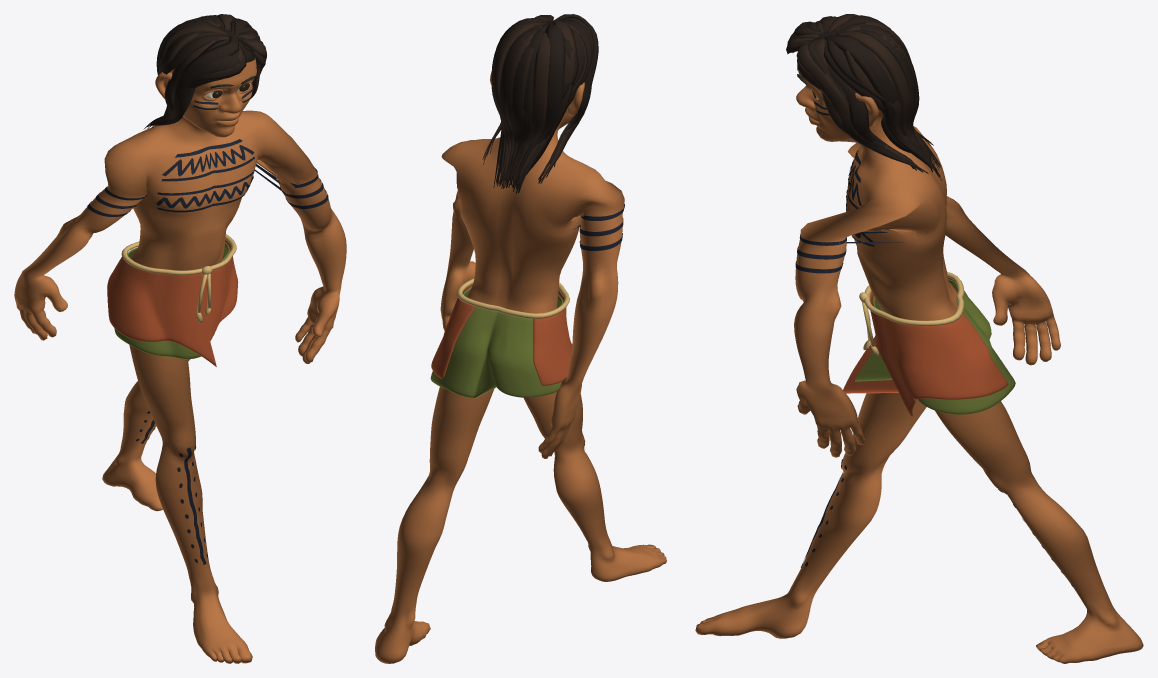
The model's file is homem_01.glb.
The picture shows the model from 3 angles, left to right: view 1: azimuth 30°, elevation 25°; view 2: azimuth 150°, elevation 25°; view 3: azimuth 270°, elevation 25°; orthographic projection. The views are drawn at different scales.
Parts seen in each view (by area): view 1: homem_01_corpo; view 2: homem_01_corpo; view 3: homem_01_corpo.
Part boxes in pixels (box(x1,y1,x2,y2)): homem_01_corpo: box(14, 14, 346, 663); homem_01_corpo: box(375, 14, 666, 663); homem_01_corpo: box(695, 14, 1143, 663).
Bounding box in the file's own units: 0.6911 × 1.7 × 1.1.
